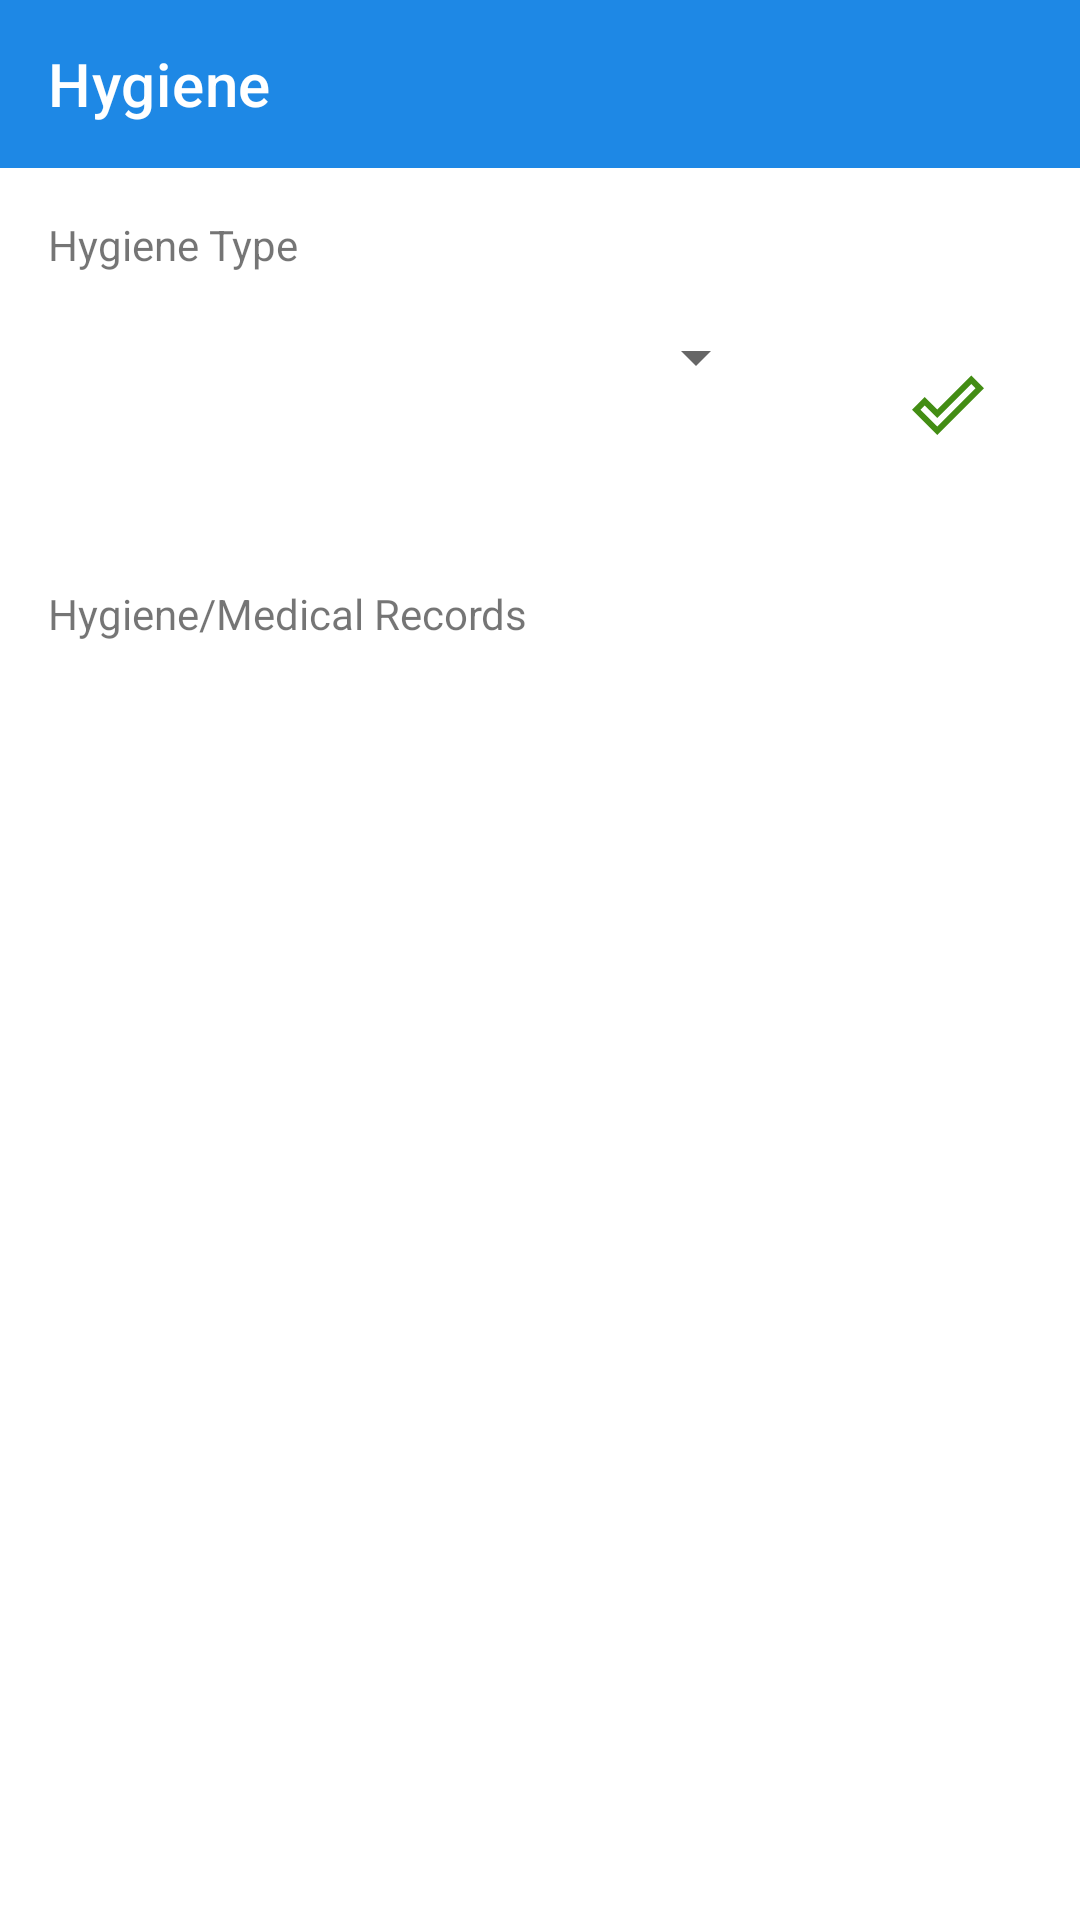

Point at icon controls on the screen. Image size 1080x1920, points as (x,y).
done: (948,405)
